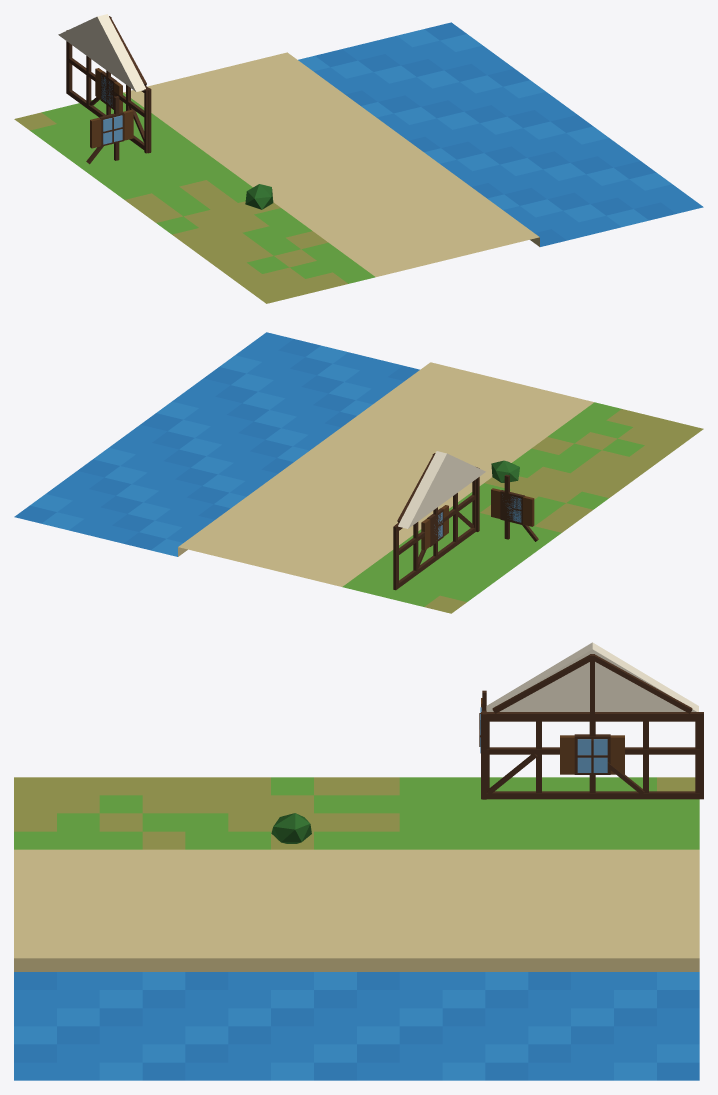
File: chunk_11_6.glb
3 renders of one model, top to bottom at view 1: azimuth 30°, elevation 25°; view 2: azimuth 150°, elevation 25°; view 3: azimuth 270°, elevation 25°, orthographic. The views are drawn at different scales.
Parts seen in each view (by area): view 1: chunk_11_6; view 2: chunk_11_6; view 3: chunk_11_6.
Boxes of the visible parts, x1=… form: chunk_11_6: x1=14, y1=14, x2=703, y2=303; chunk_11_6: x1=14, y1=332, x2=703, y2=613; chunk_11_6: x1=14, y1=642, x2=703, y2=1080.
Bounding box in the file's own units: 16.25 × 4.57 × 16.1.
